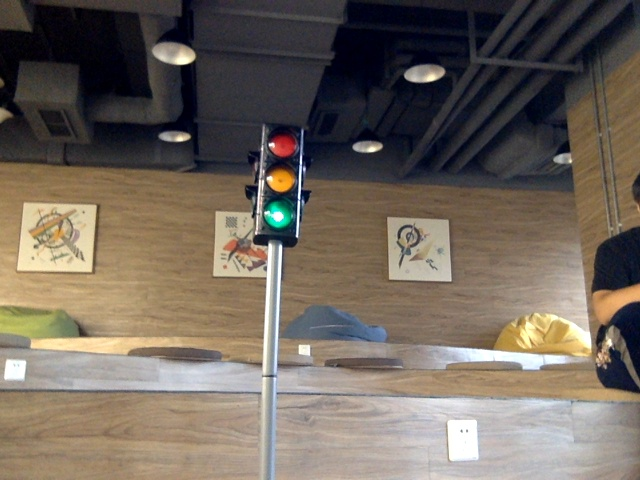green: (260, 131, 295, 236)
